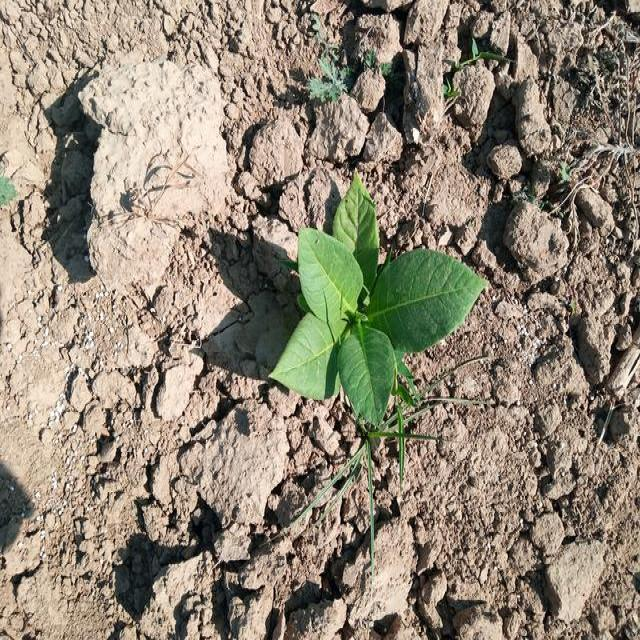crop: (266, 171, 478, 422)
